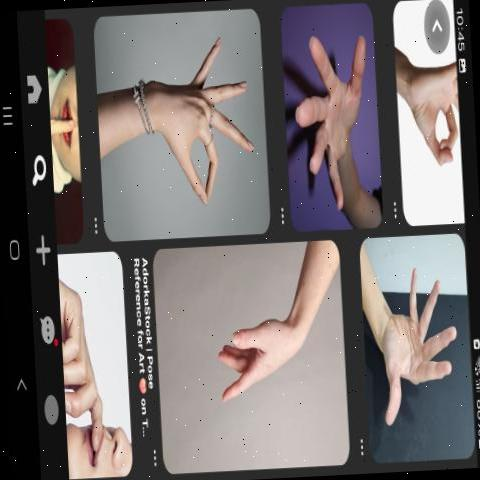Hands: (120, 20, 255, 230), (191, 270, 320, 442), (284, 22, 378, 221), (366, 262, 462, 451)
